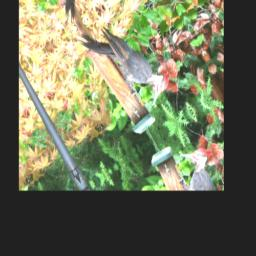Woodpecker: (76, 0, 177, 127)
